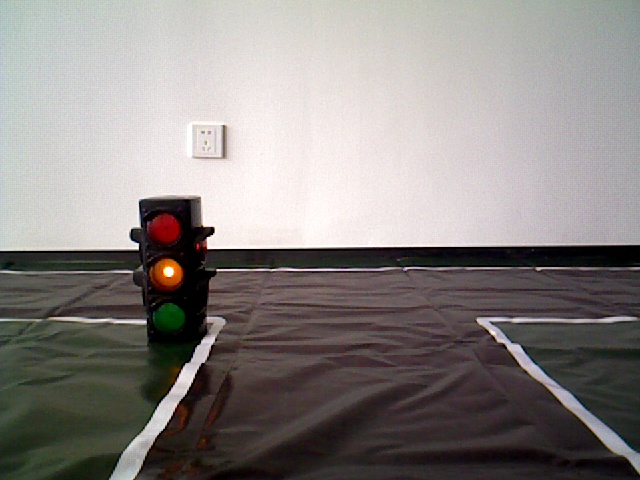yellow: (140, 200, 204, 333)
